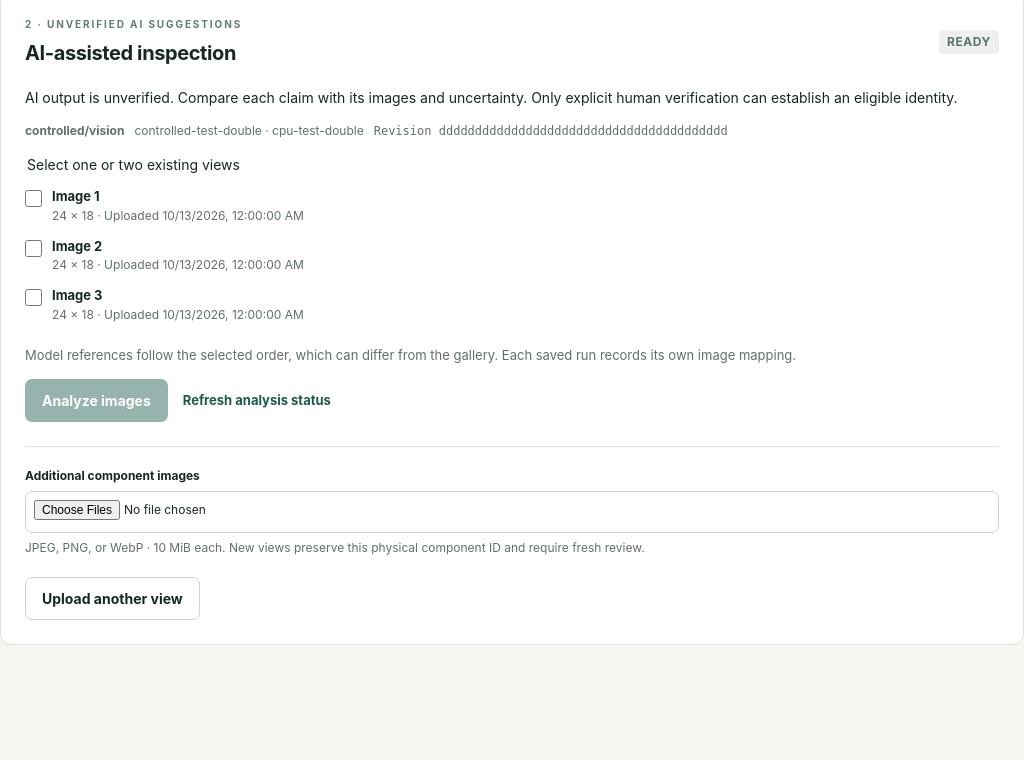
it: inspection requests and explicit human actions › polls a pending run and refreshes evidence only after an actual terminal response
Click the checkbox labelled "Image 1 24 × 18 · Uploaded 10/13/2026, 12:00:00 AM": (34, 198) top-left (25, 190), bottom-right (42, 207)
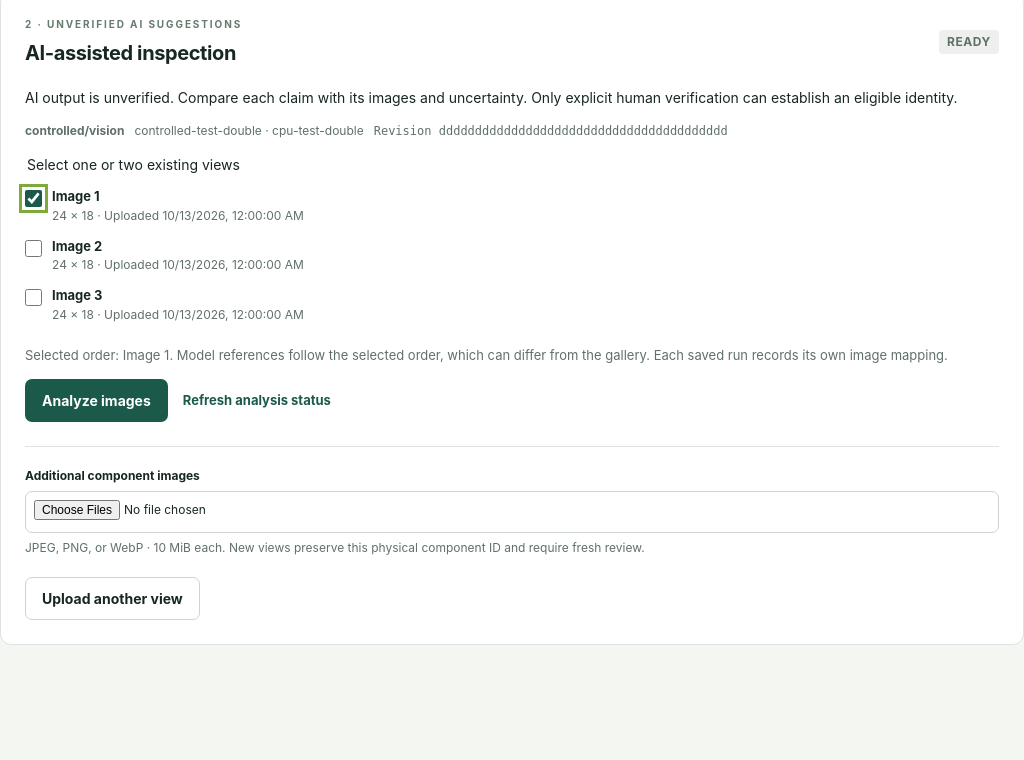
Click the button "Analyze images": (96, 400) top-left (25, 379), bottom-right (168, 422)
(page scrolled)
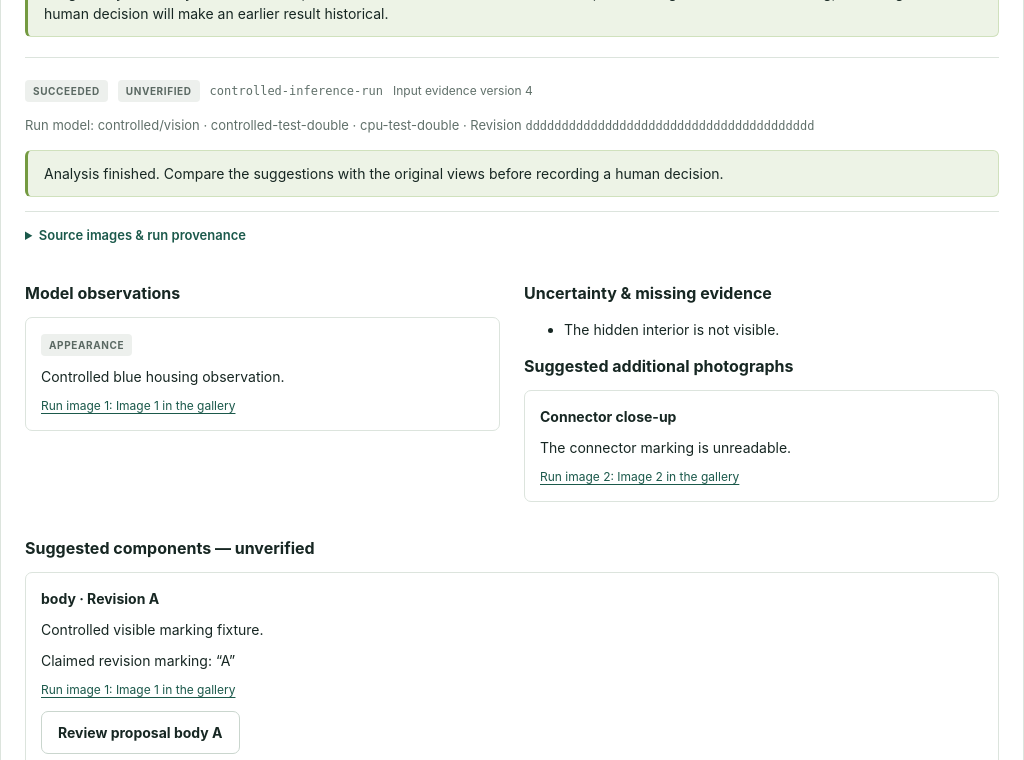
Result: the text "Controlled blue housing observation." is shown at top-left (41, 368), bottom-right (285, 385)
